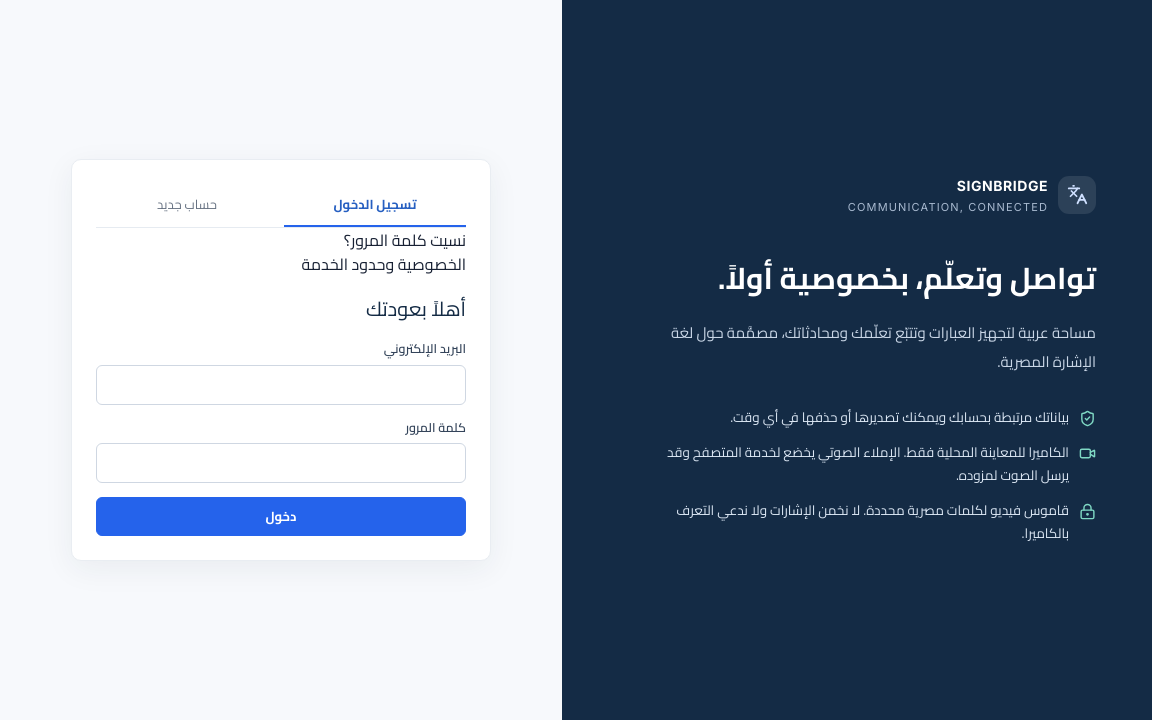
Test case: account forms › submits the resolved login fields
The image size is (1152, 720).
Type "a@example.com" into the field labelled "البريد الإلكتروني" at (281, 384), box [96,364,466,404]
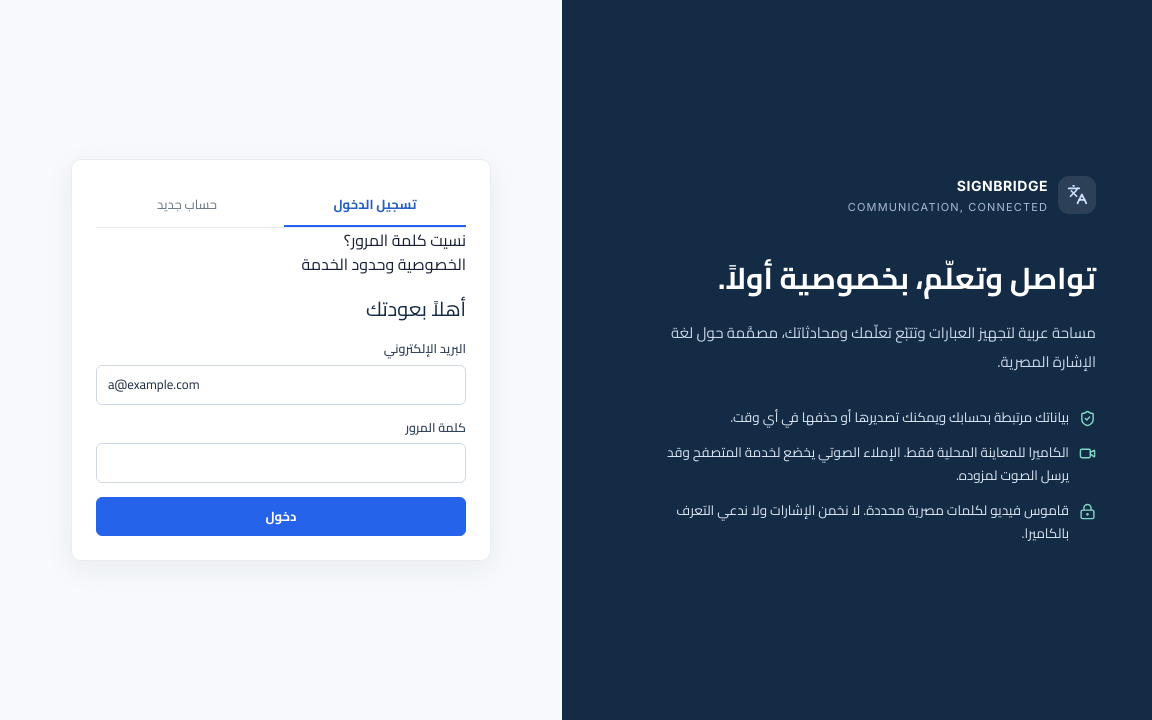
Type "password123" into the password field labelled "كلمة المرور" at (281, 463), box [96,443,466,483]
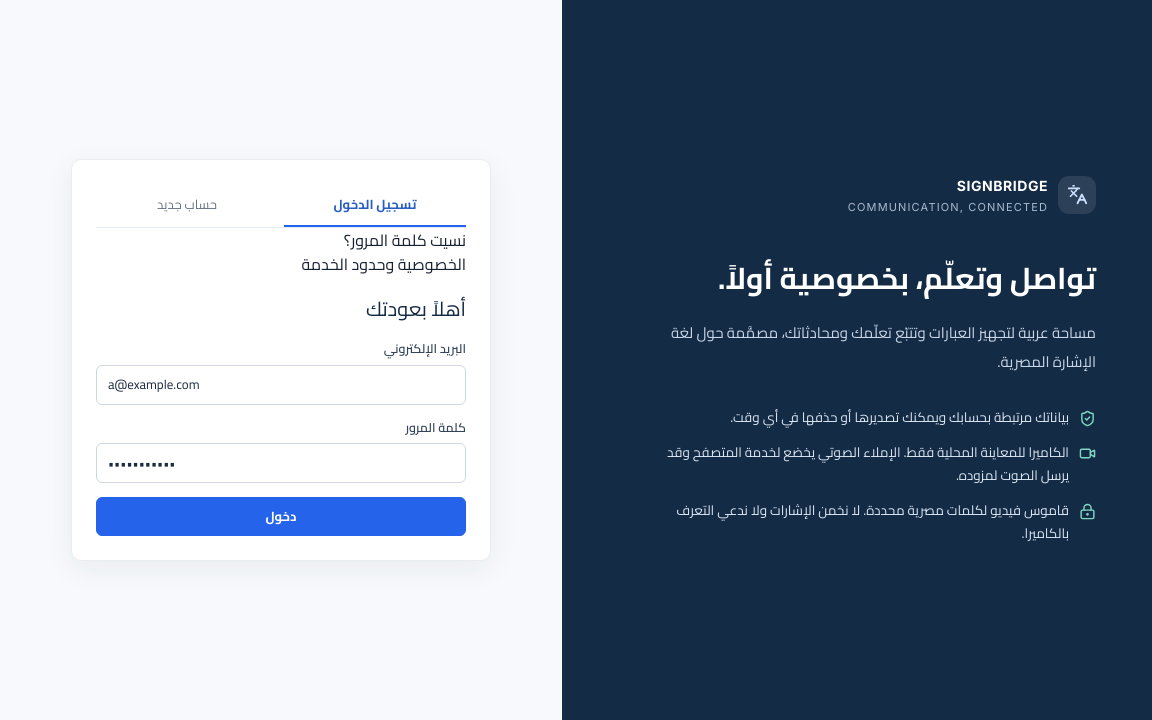
Click the button "دخول" at (281, 517), box [96,497,466,536]
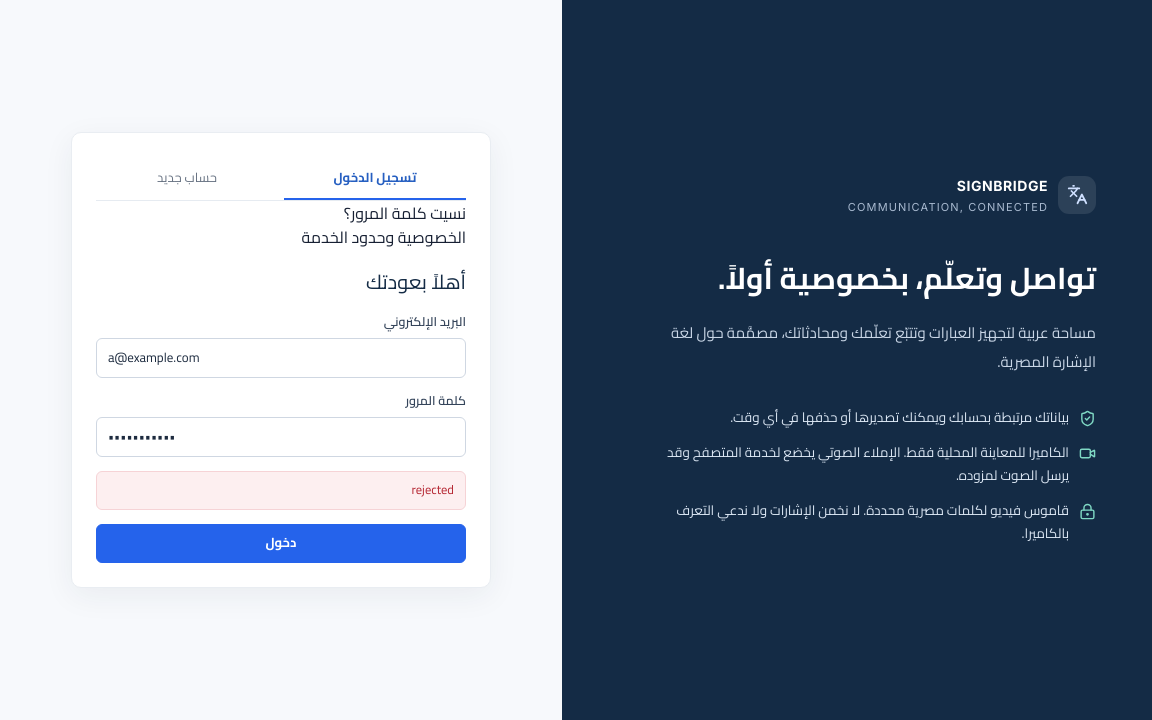
Check: the message reads "rejected", box [412,478,454,501]
